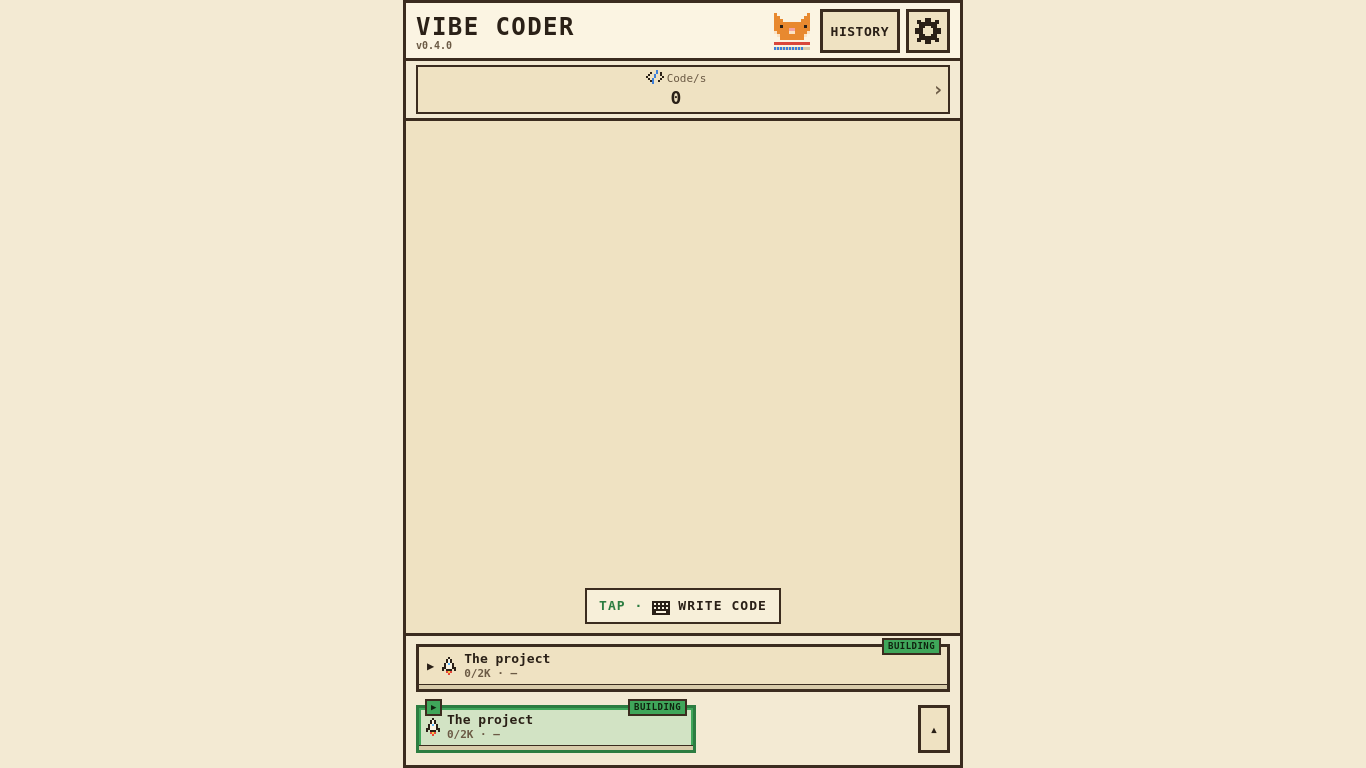
Scenario: settings credits › credit the author and license, and link to the source
The image size is (1366, 768).
Click the button with test id "settings-button" at (928, 31), box [906,9,950,53]
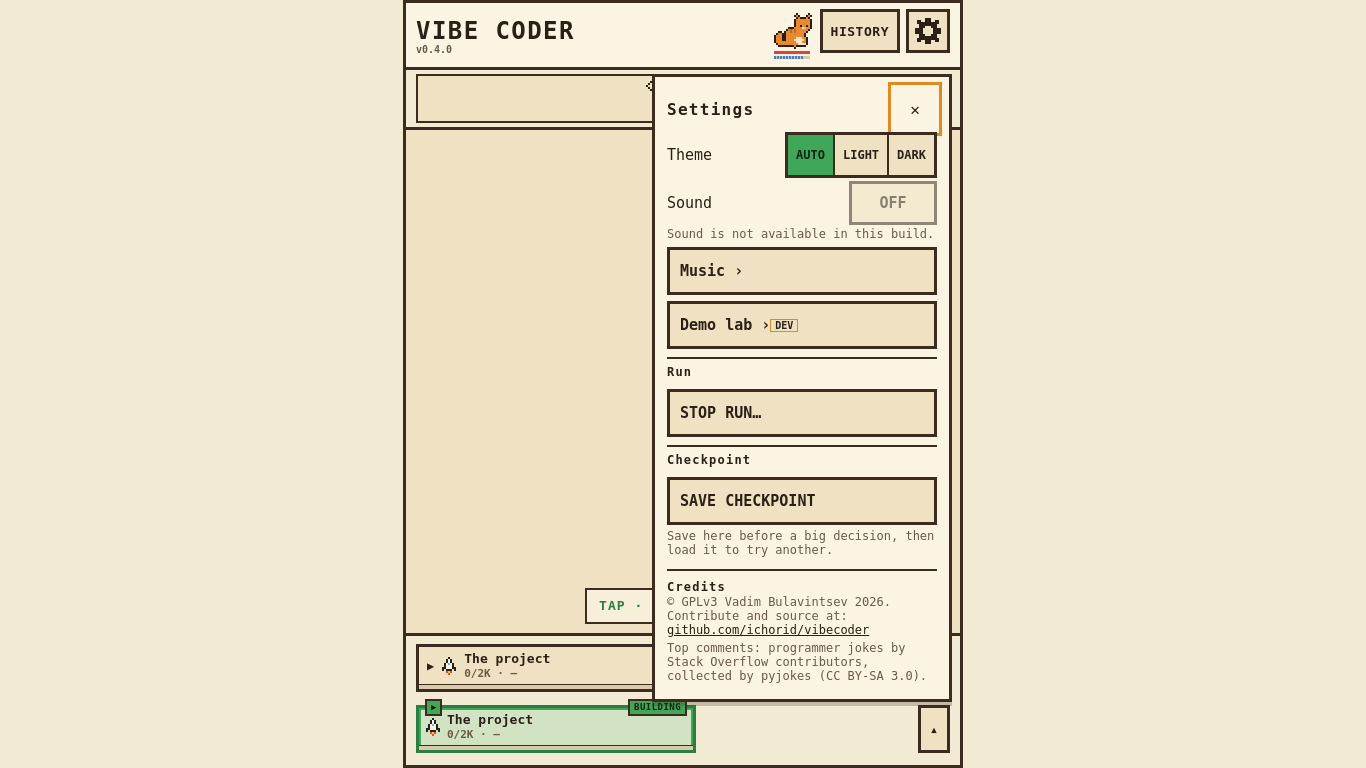
Result: the element with test id "credits" shows "© GPLv3 Vadim Bulavintsev 2026." at [667,595,891,623]
